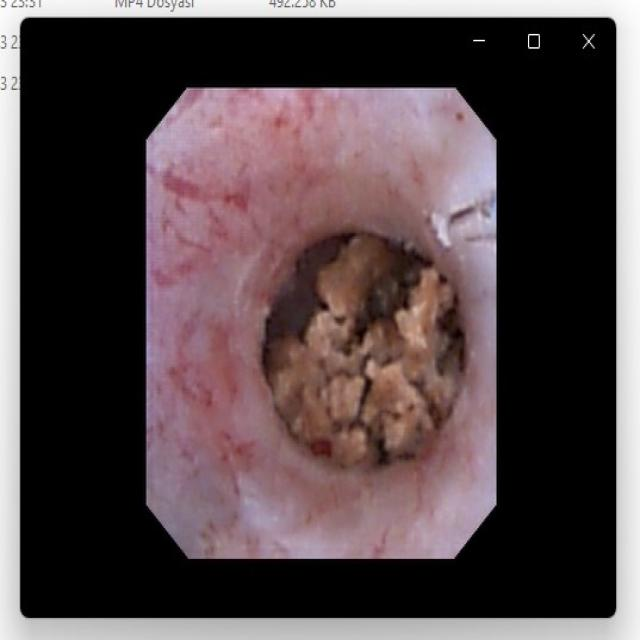stone: (272, 240, 461, 467)
